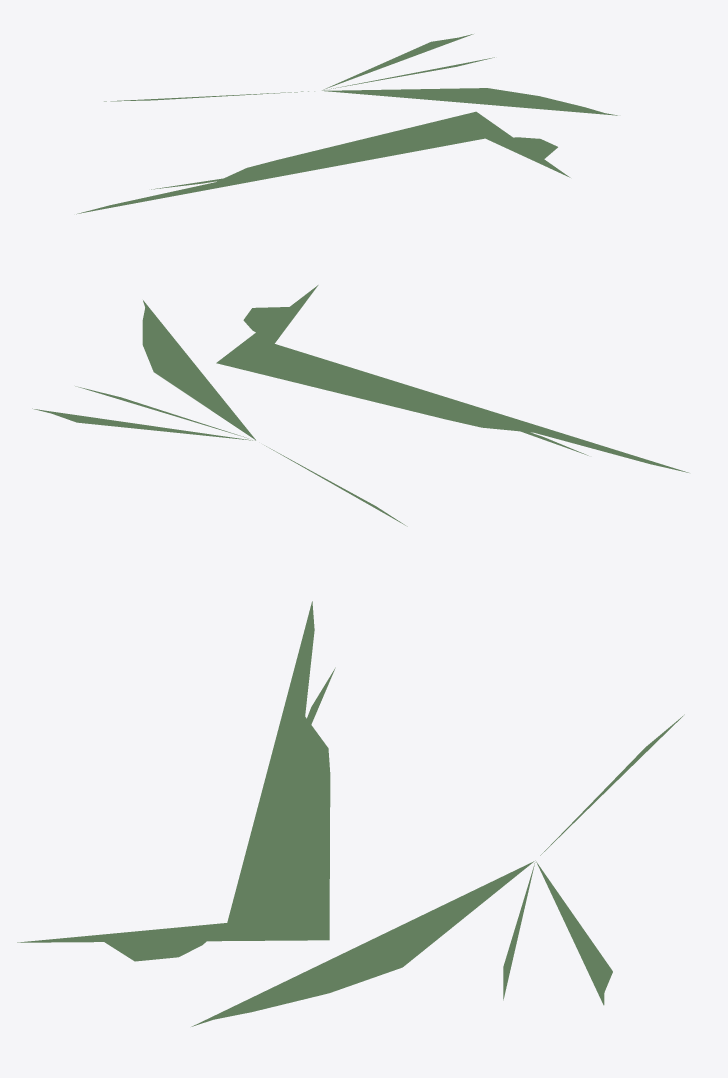
File: c_1642_17833_forest.glb
3 renders of one model, top to bottom at view 1: azimuth 30°, elevation 25°; view 2: azimuth 150°, elevation 25°; view 3: azimuth 270°, elevation 25°, orthographic. The views are drawn at different scales.
Visible parts, largest first — view 1: geometry_0; view 2: geometry_0; view 3: geometry_0.
Part boxes in pixels (<box>): geometry_0: <box>76,34,617,214</box>; geometry_0: <box>32,285,688,526</box>; geometry_0: <box>17,601,684,1026</box>.
Size of the model in its own units: 697 by 0 by 427.
